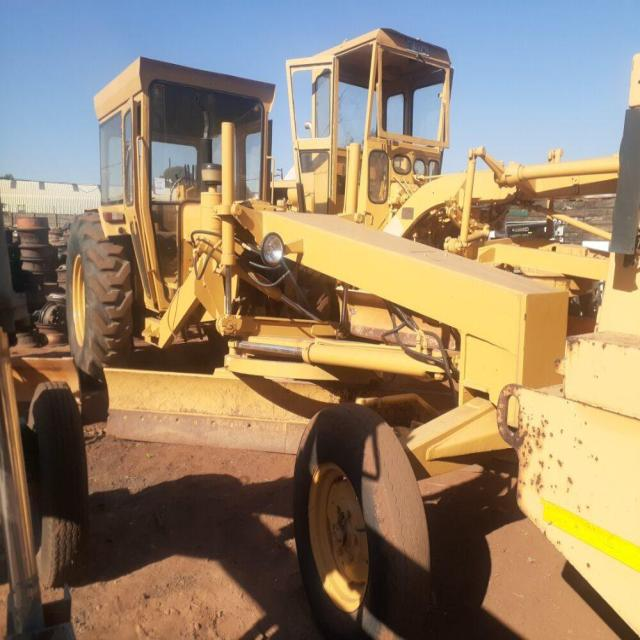buldozerpayloadergrader: (54, 40, 568, 601)
